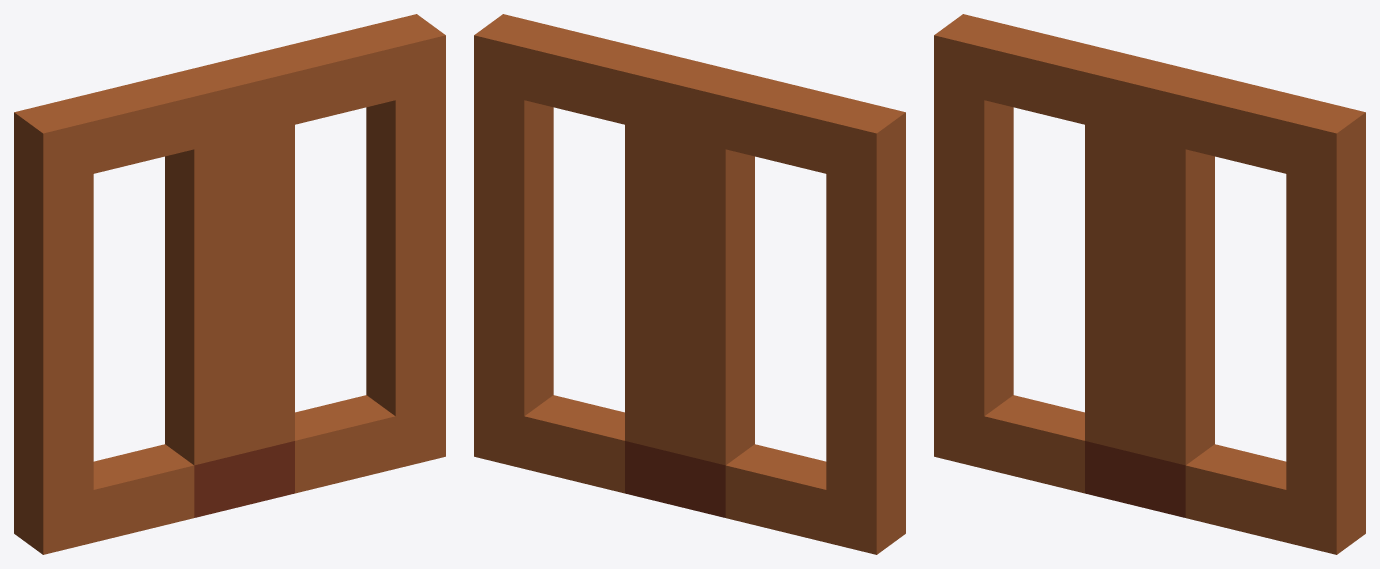
Rendered from Plum Trapdoor.glb.
The picture shows the model from 3 angles, left to right: view 1: azimuth 30°, elevation 25°; view 2: azimuth 150°, elevation 25°; view 3: azimuth 330°, elevation 25°; orthographic projection.
Visible parts, largest first — view 1: generated(Clone); view 2: generated(Clone); view 3: generated(Clone).
Part boxes in pixels (<box>): generated(Clone): <box>14,14,445,554</box>; generated(Clone): <box>474,14,905,554</box>; generated(Clone): <box>934,14,1365,554</box>.
Size of the model in its own units: 8 by 8 by 1.
1 material, 1 textured.
